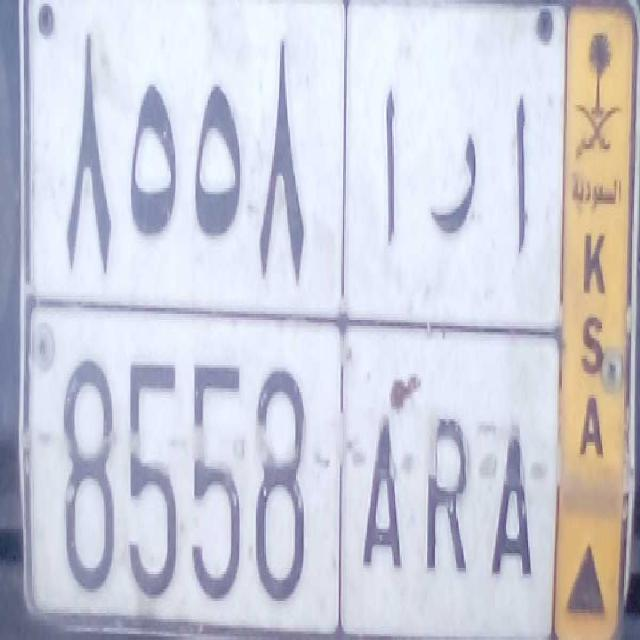license_plate: (24, 293, 556, 639)
